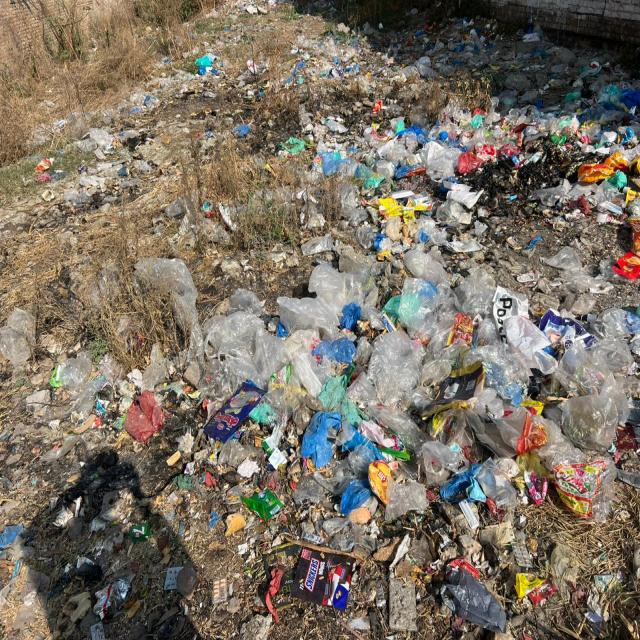garbage: (146, 208, 640, 625), (286, 28, 640, 230)
